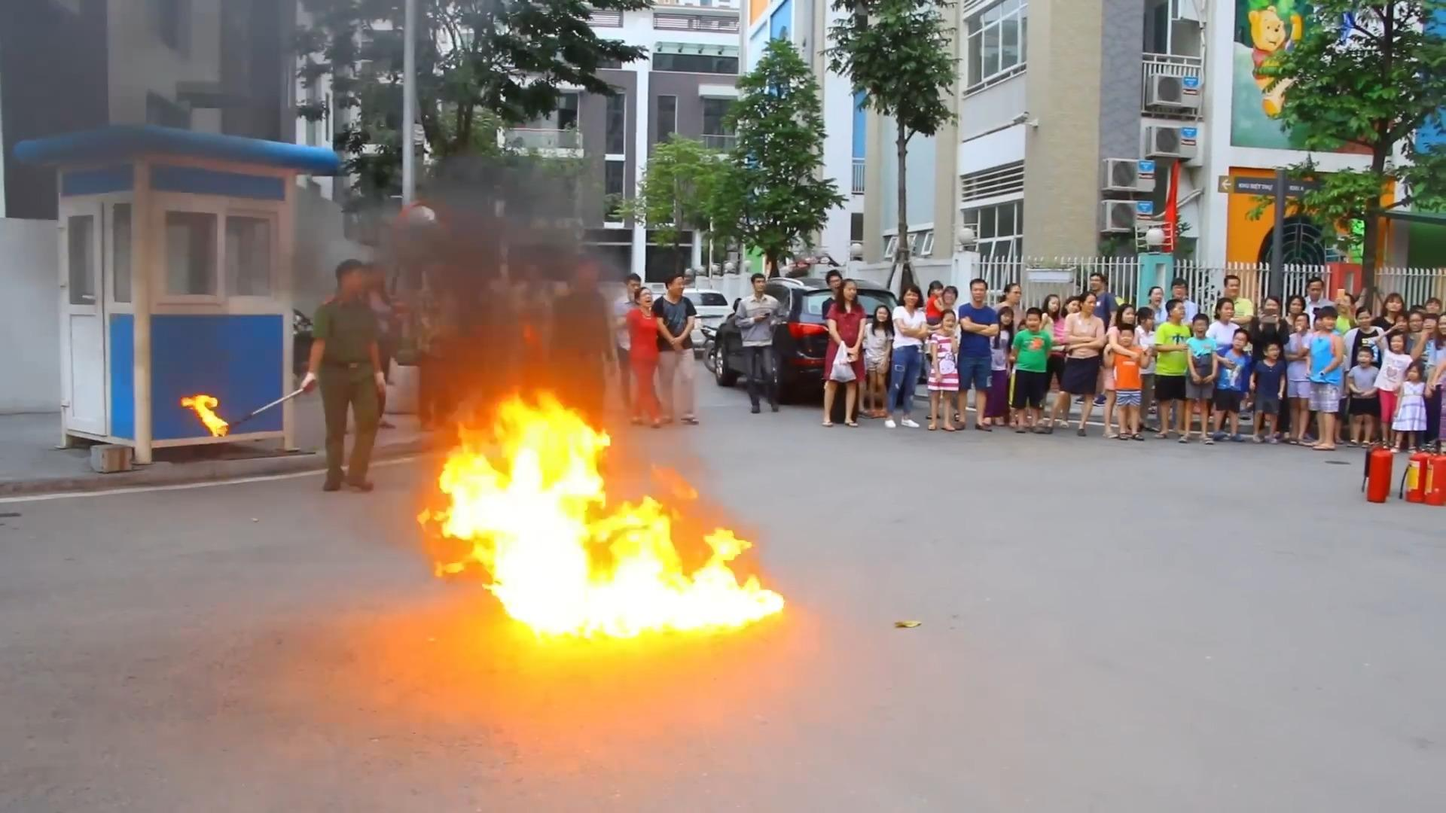FireExtinguisher: (1405, 445, 1446, 514), (1364, 441, 1396, 509)
